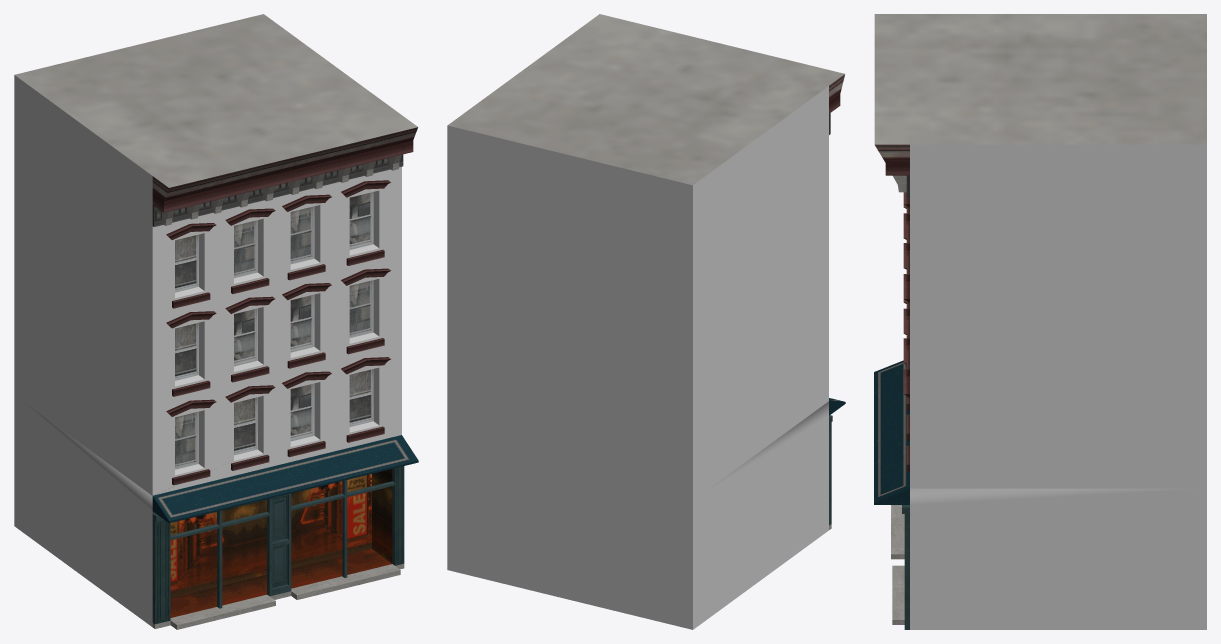
File: Building_H3.fbx
3 views of the same model, side by side, from view 1: azimuth 30°, elevation 25°; view 2: azimuth 150°, elevation 25°; view 3: azimuth 270°, elevation 25° (orthographic). The views are drawn at different scales.
Parts seen in each view (by area): view 1: City_Market_01:Building H003; view 2: City_Market_01:Building H003; view 3: City_Market_01:Building H003.
Boxes of the visible parts, box(x1,y1,x2,y2) form: City_Market_01:Building H003: box(14, 14, 418, 629); City_Market_01:Building H003: box(447, 14, 845, 629); City_Market_01:Building H003: box(874, 14, 1206, 629).
Bounding box in the file's own units: 6.4 × 11.07 × 6.88.
